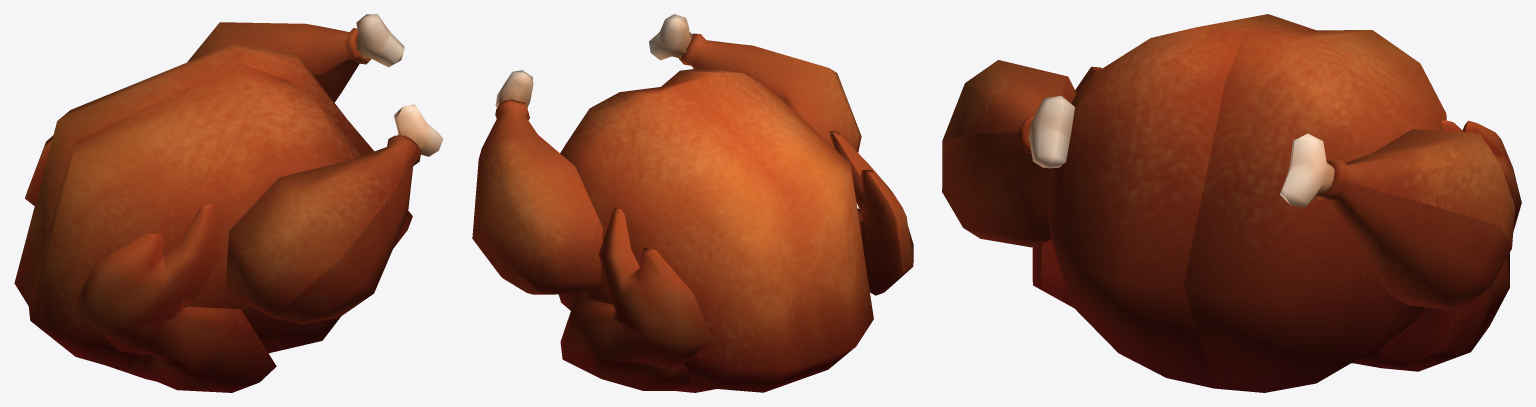
Rendered from Roasted Chicken.fbx.
3 views of the same model, side by side, from view 1: azimuth 30°, elevation 25°; view 2: azimuth 150°, elevation 25°; view 3: azimuth 270°, elevation 25° (orthographic). The views are drawn at different scales.
Visible parts, largest first — view 1: RoastedChicken_1; view 2: RoastedChicken_1; view 3: RoastedChicken_1.
Boxes of the visible parts, left/top/right/bottom form: RoastedChicken_1: left=14, top=14, right=443, bottom=392; RoastedChicken_1: left=472, top=14, right=913, bottom=392; RoastedChicken_1: left=942, top=14, right=1521, bottom=392.
Bounding box in the file's own units: 93.42 × 63.5 × 99.41.
1 material, 1 textured.
